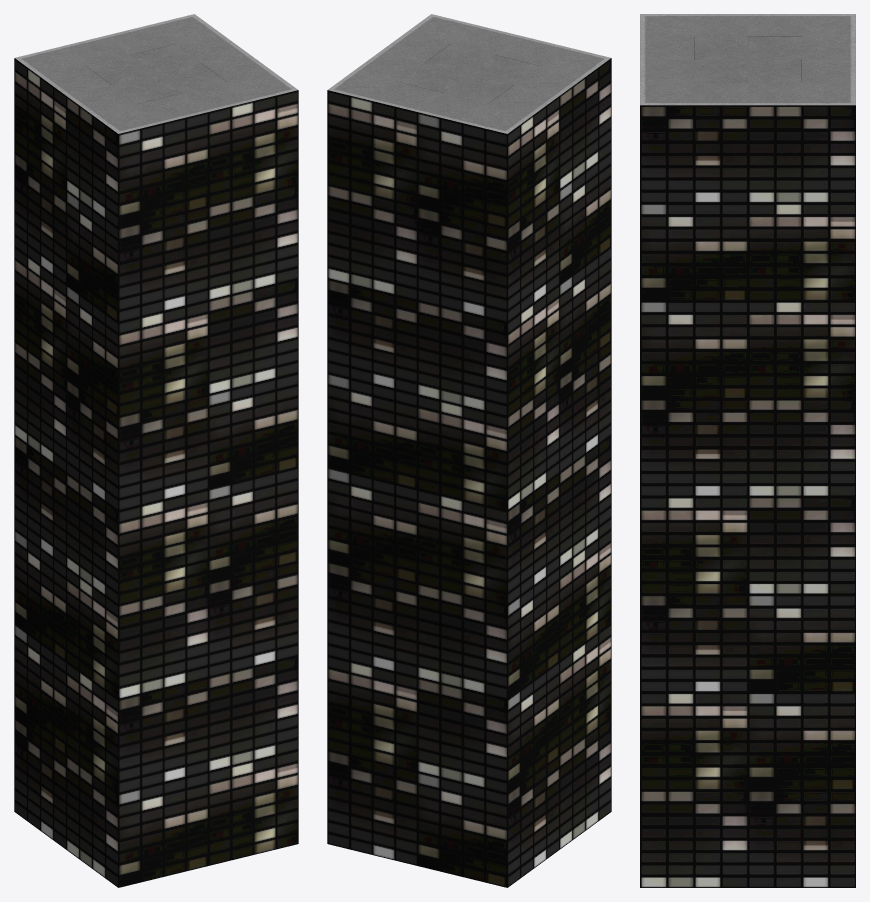
File: building05.obj
The picture shows the model from 3 angles, left to right: view 1: azimuth 30°, elevation 25°; view 2: azimuth 150°, elevation 25°; view 3: azimuth 270°, elevation 25°; orthographic projection. The views are drawn at different scales.
Visible parts, largest first — view 1: Building_square; view 2: Building_square; view 3: Building_square.
Part boxes in pixels (bbox=[...]): Building_square: bbox=[14, 14, 298, 887]; Building_square: bbox=[327, 14, 611, 887]; Building_square: bbox=[640, 14, 855, 887].
Size of the model in its own units: 37.28 by 149 by 37.28.
Materials: 1 (1 with a texture image).
